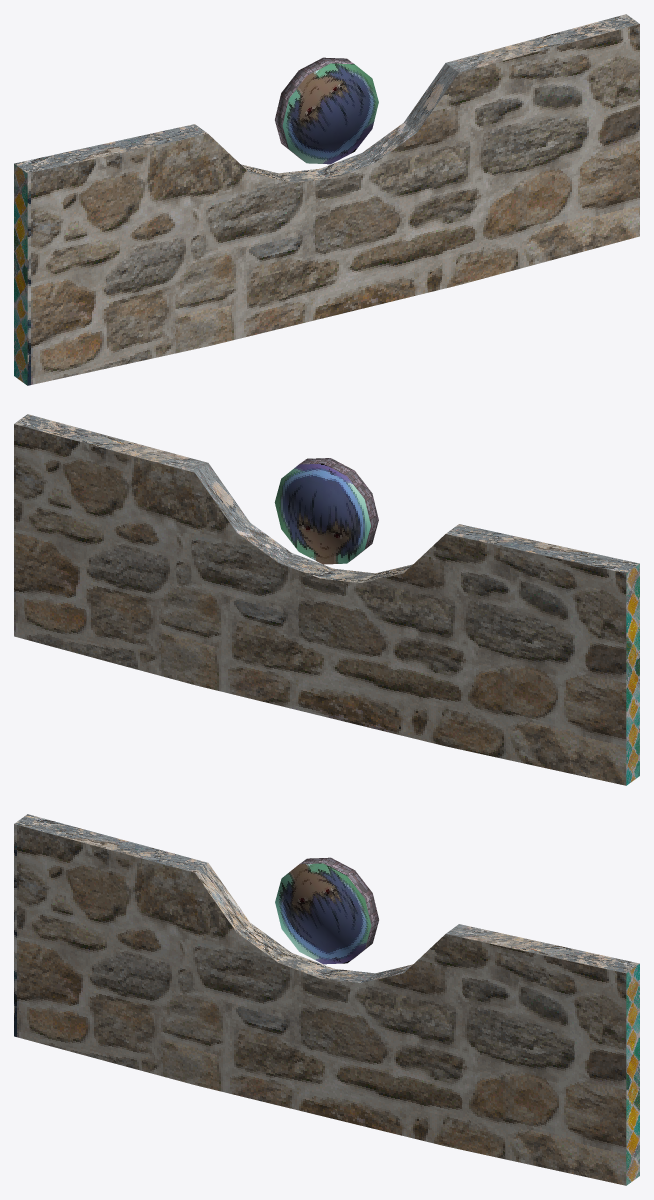
Rendered from wheelobstacle.glb.
The picture shows the model from 3 angles, top to bottom: view 1: azimuth 30°, elevation 25°; view 2: azimuth 150°, elevation 25°; view 3: azimuth 330°, elevation 25°; orthographic projection.
Parts seen in each view (by area): view 1: Cube, Cylinder; view 2: Cube, Cylinder; view 3: Cube, Cylinder.
Boxes of the visible parts, x1,y1,x2,y2 form: Cube: (14,14,639,385); Cylinder: (275,57,378,164); Cube: (14,414,639,785); Cylinder: (274,458,378,564); Cube: (14,814,639,1185); Cylinder: (275,857,378,964).
Bounding box in the file's own units: 93.35 × 36.42 × 3.57.
2 materials, 2 textured.
